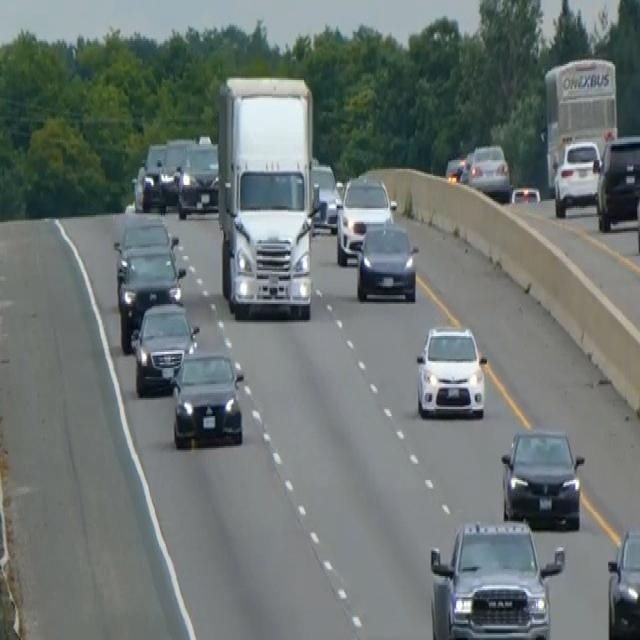car: (499, 425, 585, 530), (169, 348, 244, 450), (116, 244, 186, 352), (415, 322, 487, 419), (130, 297, 199, 396), (335, 172, 396, 265), (112, 217, 177, 304), (355, 219, 419, 302), (594, 132, 639, 231), (552, 137, 602, 217), (606, 524, 639, 638), (176, 135, 219, 219), (462, 140, 511, 201), (133, 140, 169, 212), (158, 135, 194, 206), (114, 217, 176, 256), (311, 160, 339, 231), (509, 183, 540, 205), (444, 153, 466, 183), (634, 164, 639, 258)
jeep: (428, 516, 565, 638)
lorry: (216, 71, 317, 320)
